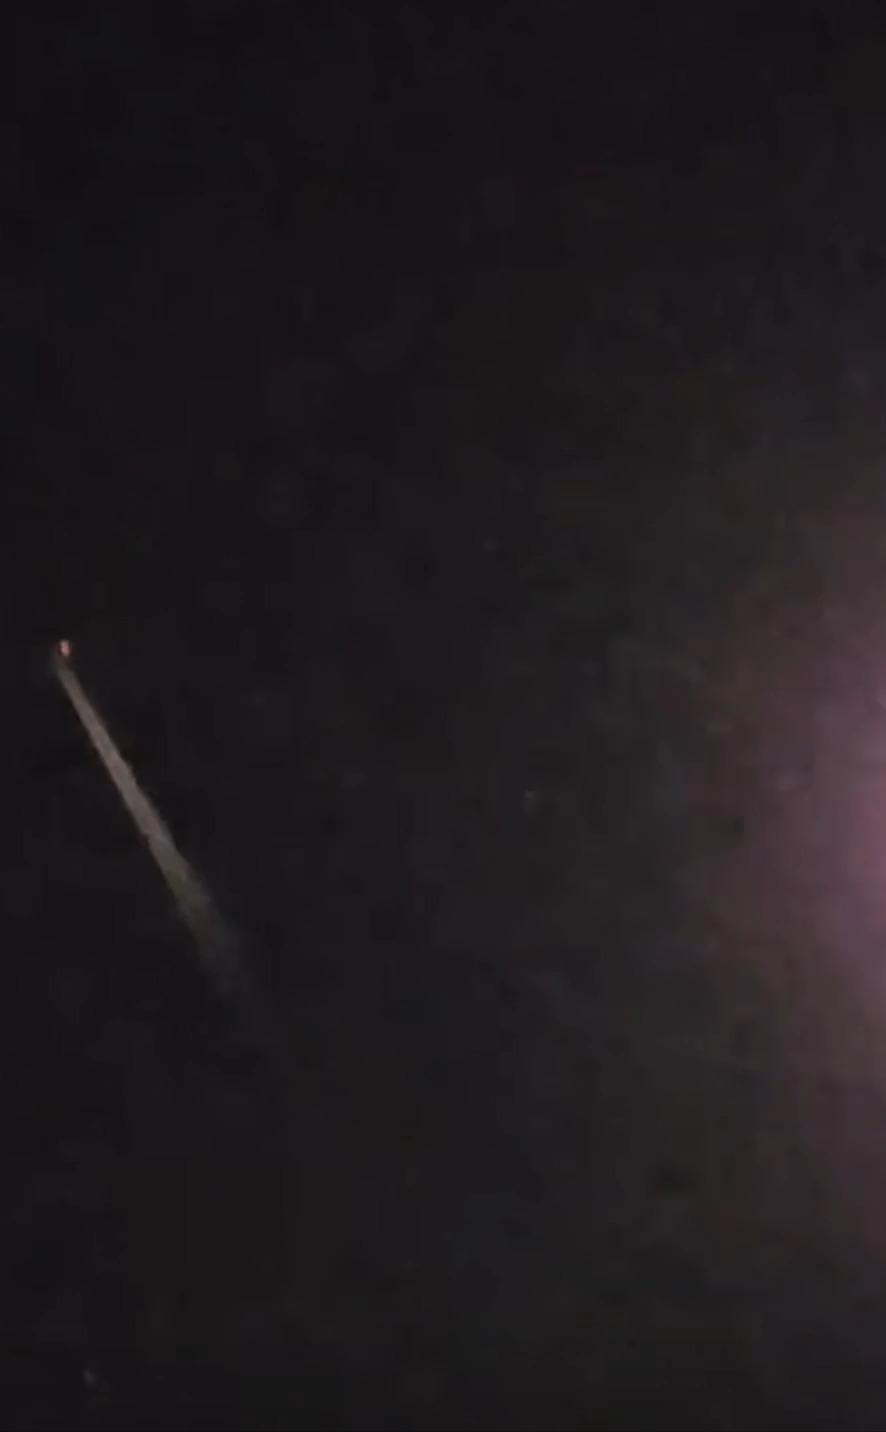Plane: (31, 622, 216, 908)
